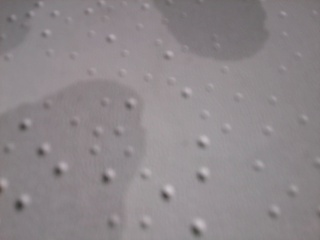Water_detected: (12, 97, 171, 240), (180, 0, 237, 45), (3, 14, 37, 51)
